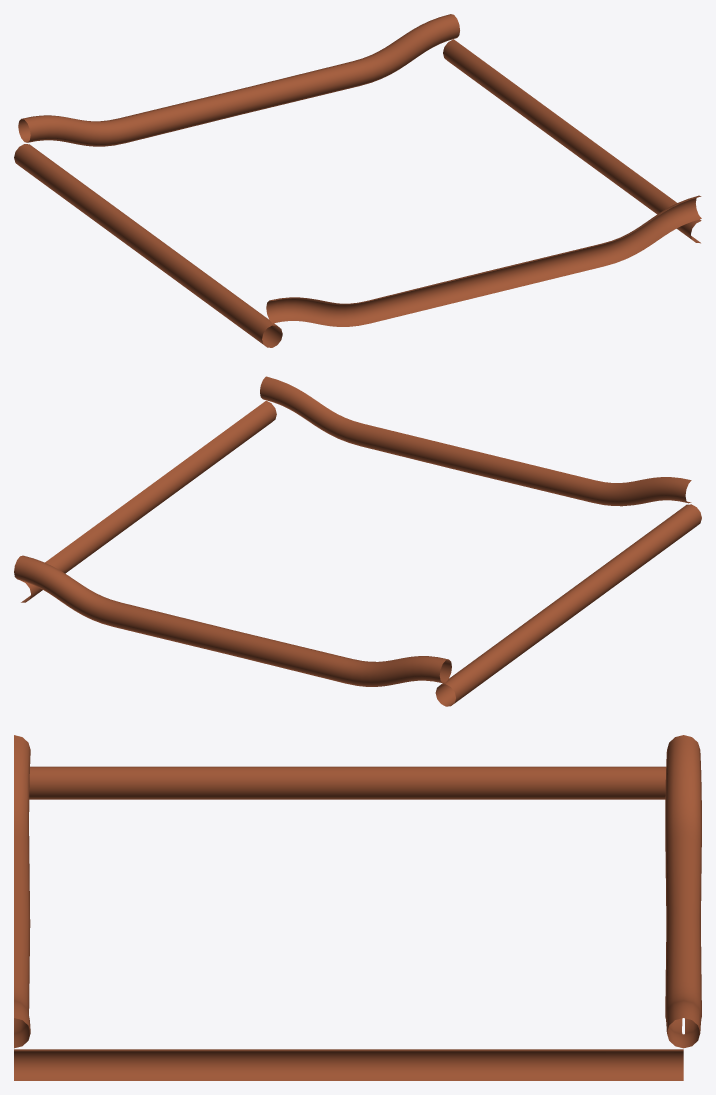
File: SM_tileSol_Corner_LeftTop.fbx
3 renders of one model, top to bottom at view 1: azimuth 30°, elevation 25°; view 2: azimuth 150°, elevation 25°; view 3: azimuth 270°, elevation 25°, orthographic. The views are drawn at different scales.
Visible parts, largest first — view 1: SM_tileSol_Corner_LeftTop; view 2: SM_tileSol_Corner_LeftTop; view 3: SM_tileSol_Corner_LeftTop.
Part boxes in pixels (x1,y1,x2,y2): SM_tileSol_Corner_LeftTop: (14,14,701,347); SM_tileSol_Corner_LeftTop: (14,376,701,706); SM_tileSol_Corner_LeftTop: (14,735,701,1080).
Bounding box in the file's own units: 205 × 20.84 × 205.
